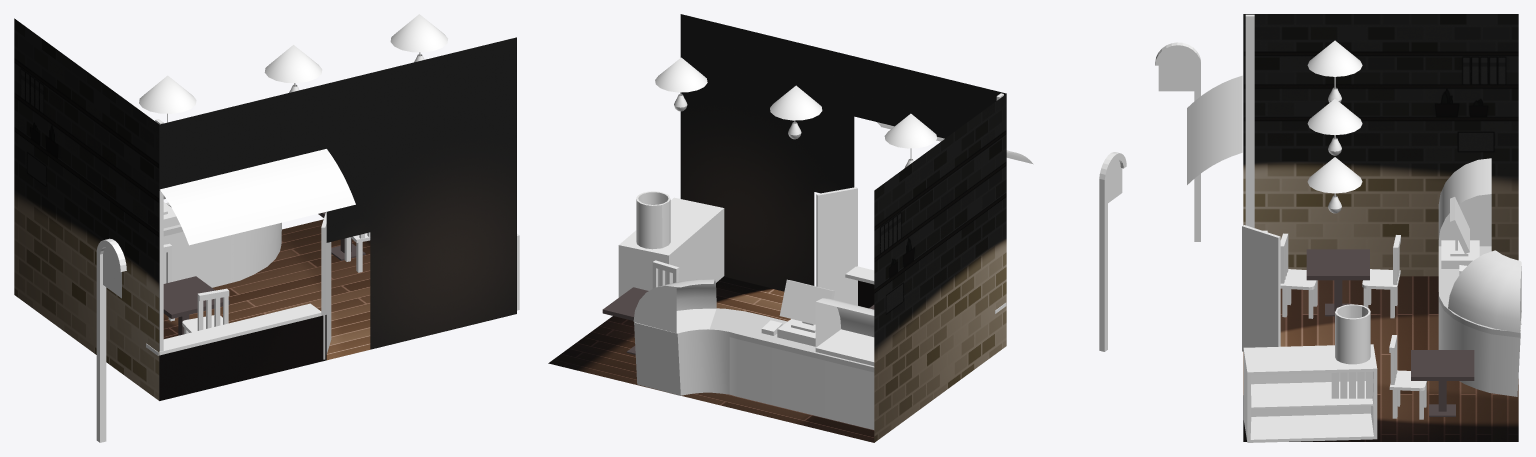
File: cafe.glb
3 views of the same model, side by side, from view 1: azimuth 30°, elevation 25°; view 2: azimuth 150°, elevation 25°; view 3: azimuth 270°, elevation 25° (orthographic). The views are drawn at different scales.
Visible parts, largest first — view 1: temp; view 2: temp; view 3: temp.
Part boxes in pixels (left/top/right/bottom): temp: left=14, top=14, right=519, bottom=442; temp: left=548, top=14, right=1126, bottom=442; temp: left=1155, top=14, right=1521, bottom=442.
Bounding box in the file's own units: 3.56 × 2.12 × 2.66.
Materials: 17 (1 with a texture image).
